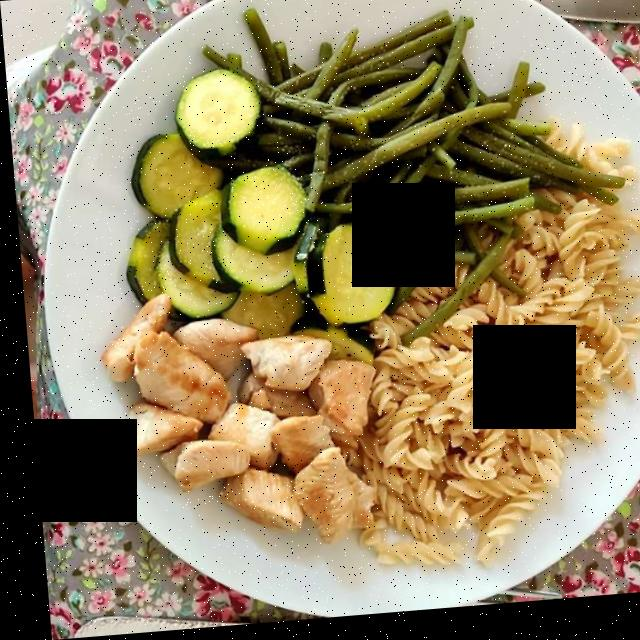green-bean-steamed-without-addition-of-salt: (199, 15, 603, 342)
pasta-wholemeal: (364, 132, 633, 567)
zucchini-stewed-without-addition-of-fat-without-addition-of-salt: (138, 75, 397, 356)
